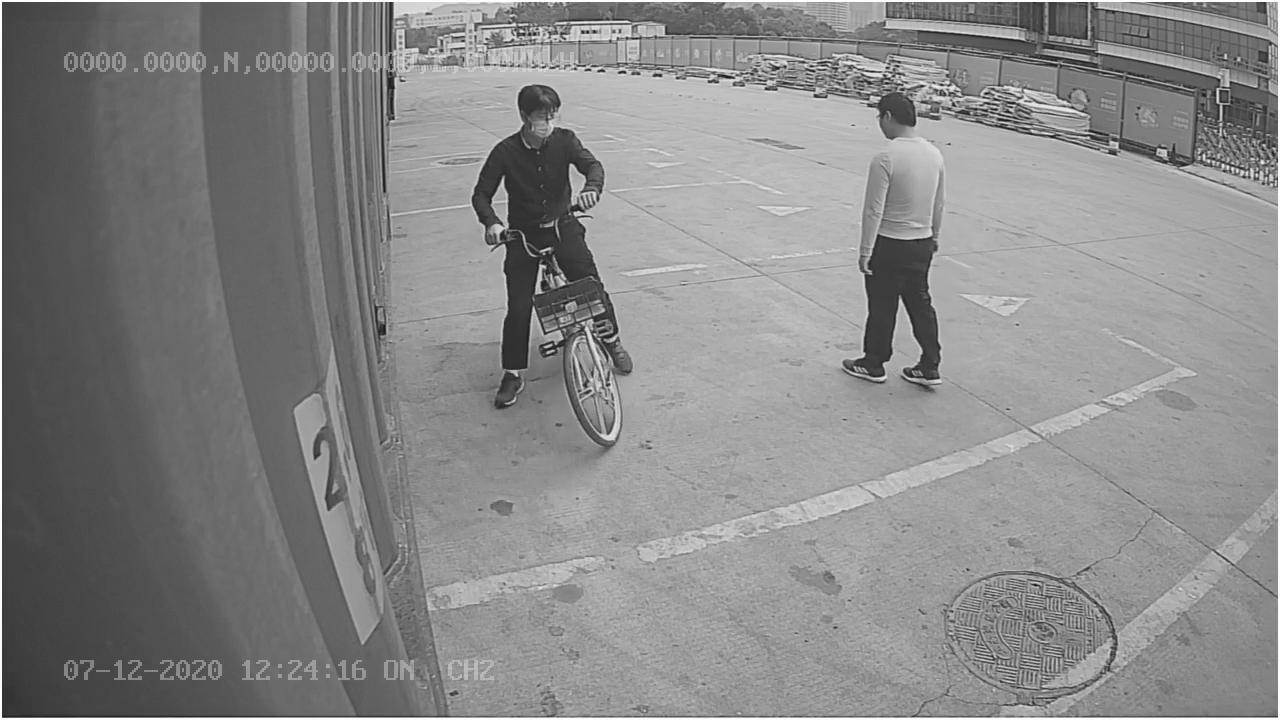person: (836, 89, 951, 389)
